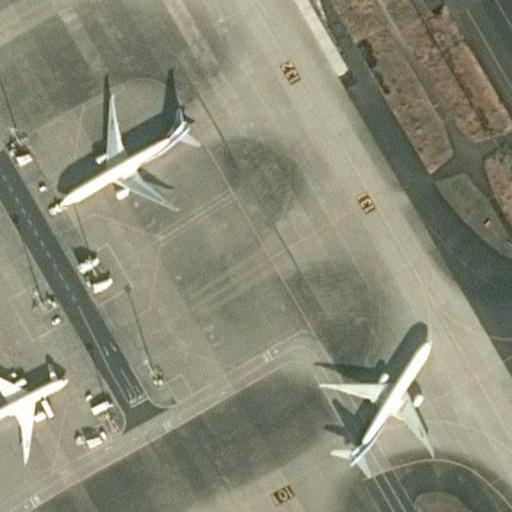Aircraft: (45, 88, 207, 224), (316, 313, 443, 474), (0, 355, 85, 460), (0, 224, 2, 333)
